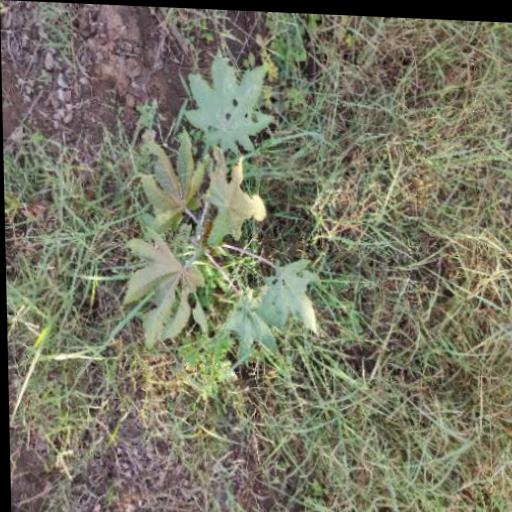weed: (110, 63, 329, 392)
